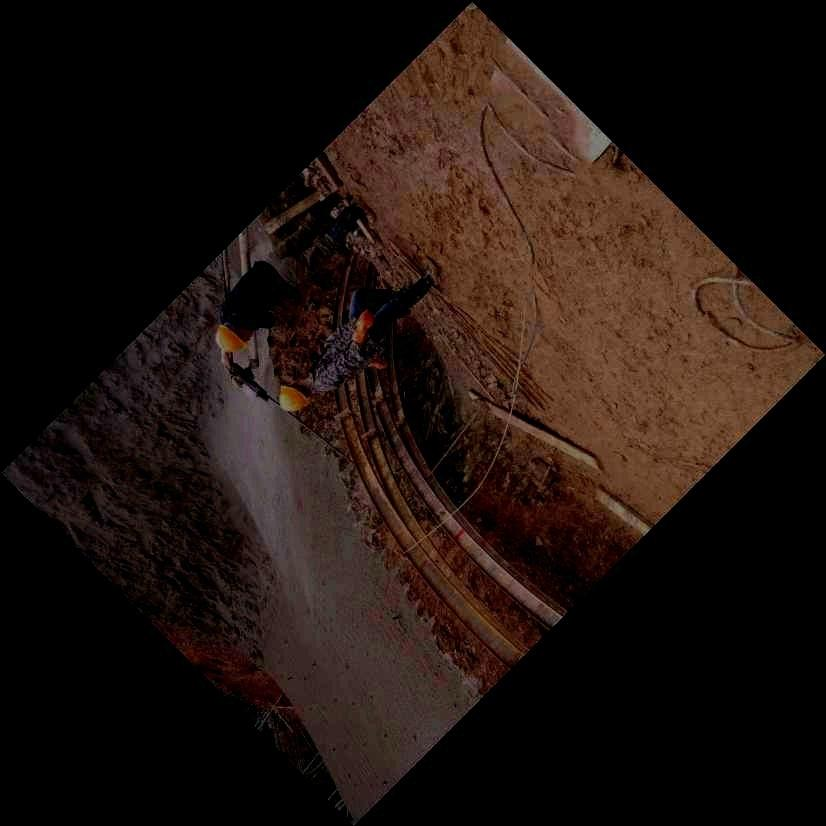helmet: (215, 319, 254, 353), (279, 378, 313, 412)
